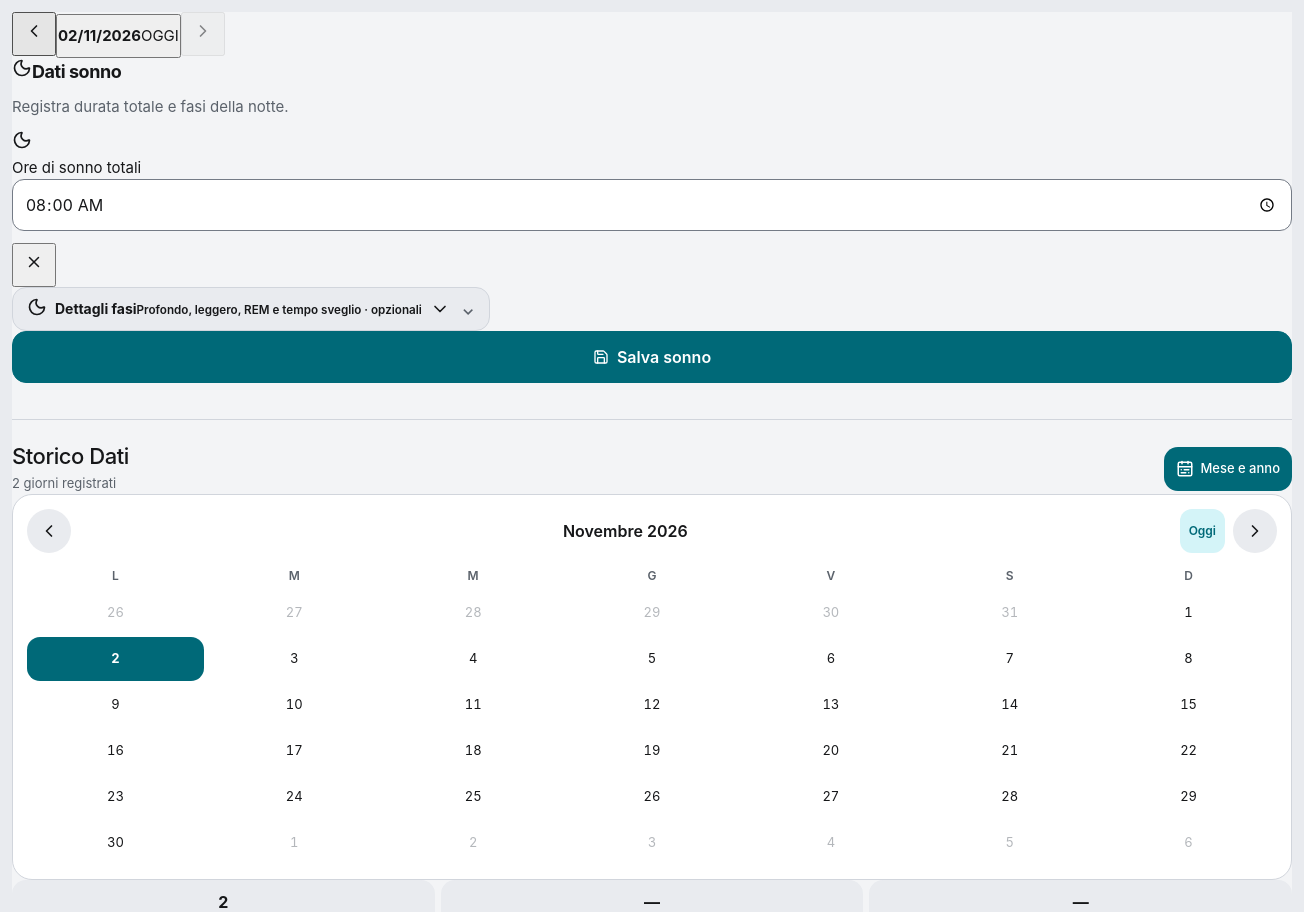
Test case: Empirical Challenger: Sleep Format in HH:MM & State Integration Stress Suite › 1. UI Component Re-renders & Form State Synchronization › switches between dates dynamically and synchronizes form values without stale data
The width and height of the screenshot is (1304, 912).
Expected: the time field with id "sleep-hours" holds "08:00", [12,179,1292,231]
Note: Use the redesigned date navigator to switch to the previous day.
Click the button named "Giorno precedente" at (34, 34), box [12,12,56,56]
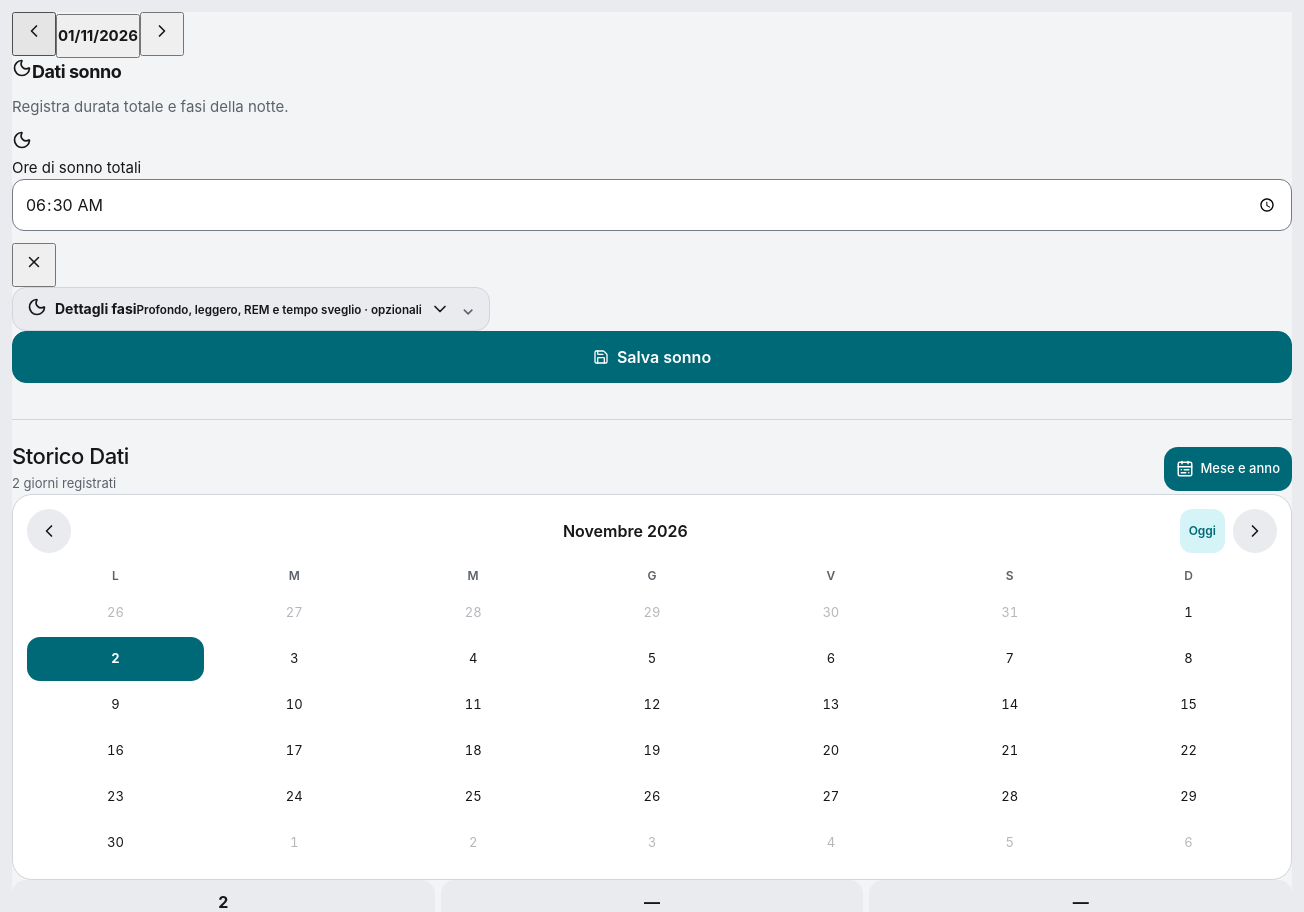
Now the time field with id "sleep-hours" holds "06:30", box [12,179,1292,231]
Note: Return to today through the center date control.
Click the button named "Torna a oggi" at (98, 36), box [56,14,140,58]
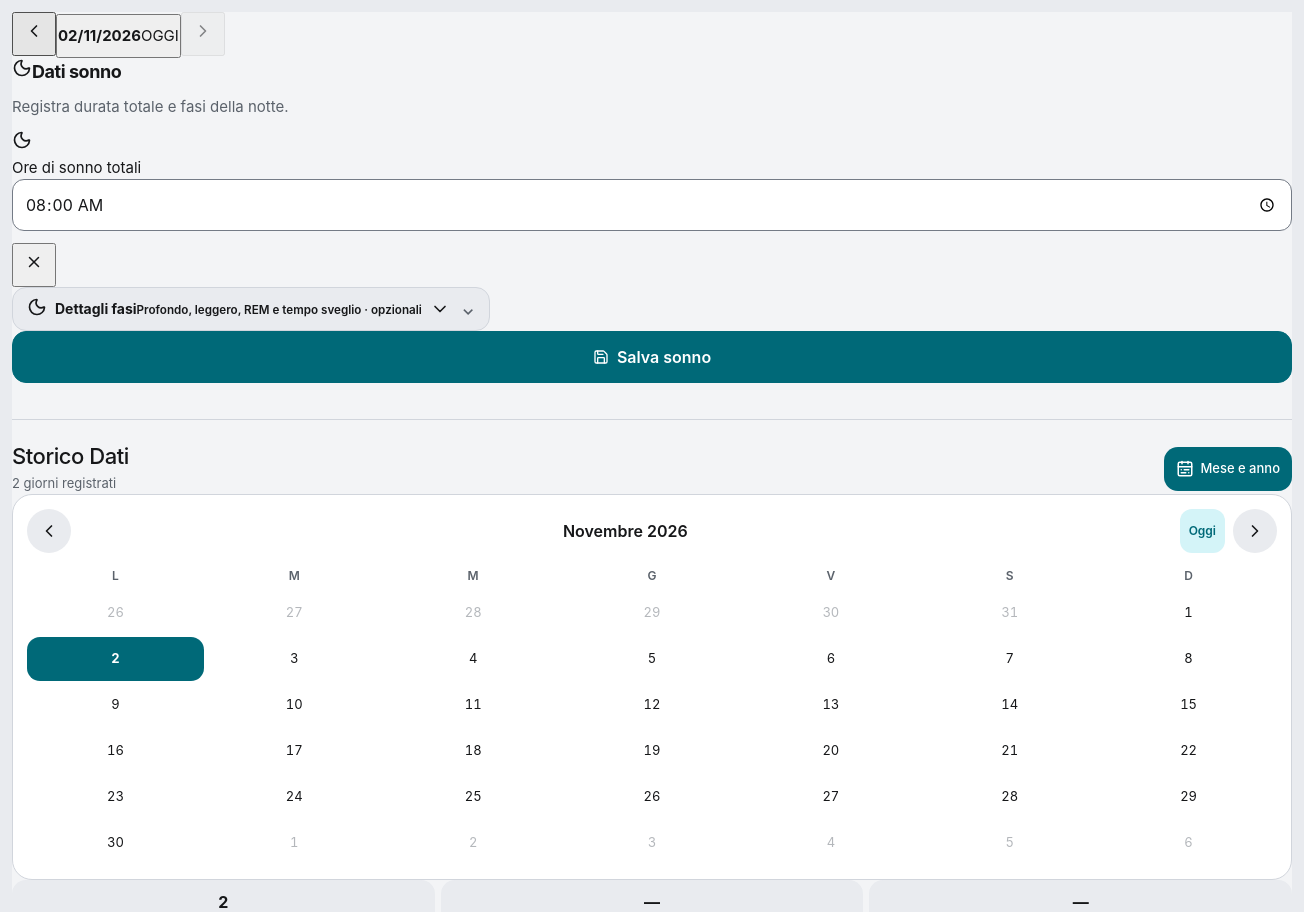
Expected: the text "Dati sonno" is shown, [12,58,121,82]
Now the time field with id "sleep-hours" holds "08:00", box [12,179,1292,231]
